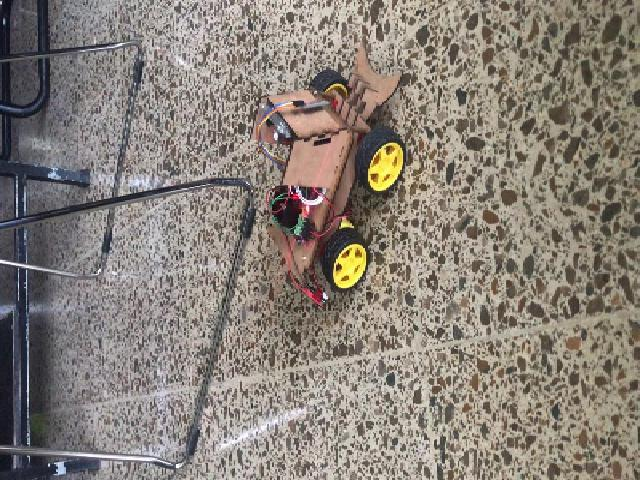Robot: (246, 36, 402, 296)
